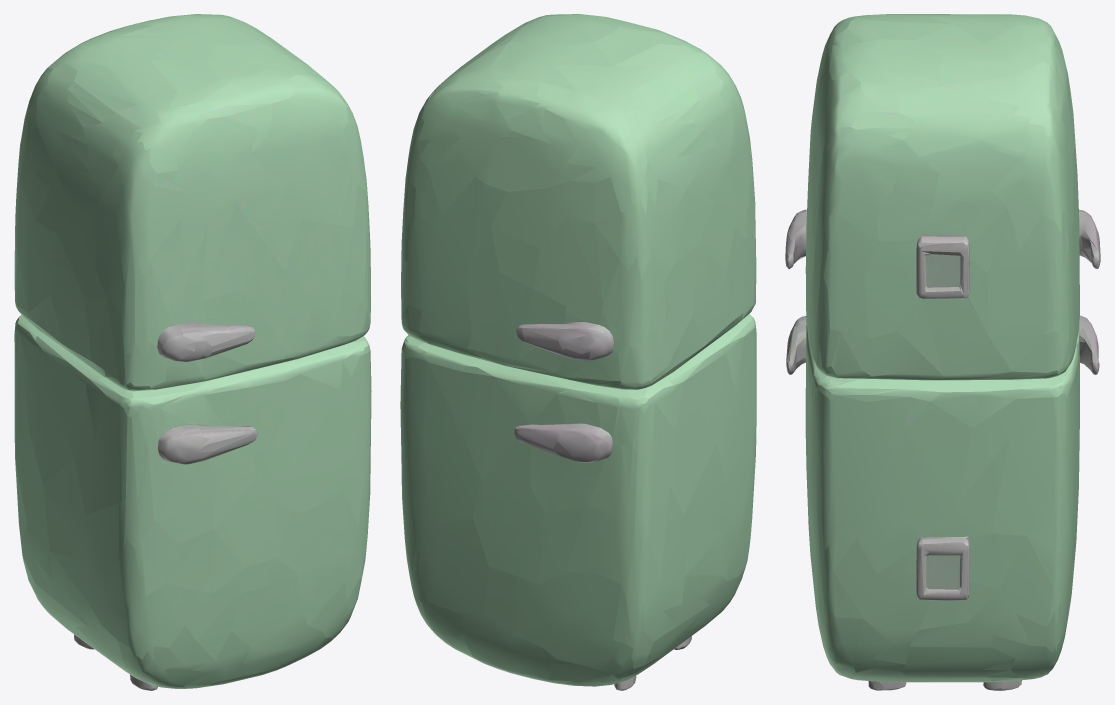
Rendered from fridge.glb.
3 views of the same model, side by side, from view 1: azimuth 30°, elevation 25°; view 2: azimuth 150°, elevation 25°; view 3: azimuth 270°, elevation 25° (orthographic). The views are drawn at different scales.
Size of the model in its own units: 0.7 by 1.5 by 0.7.
Materials: 1 (1 with a texture image).
